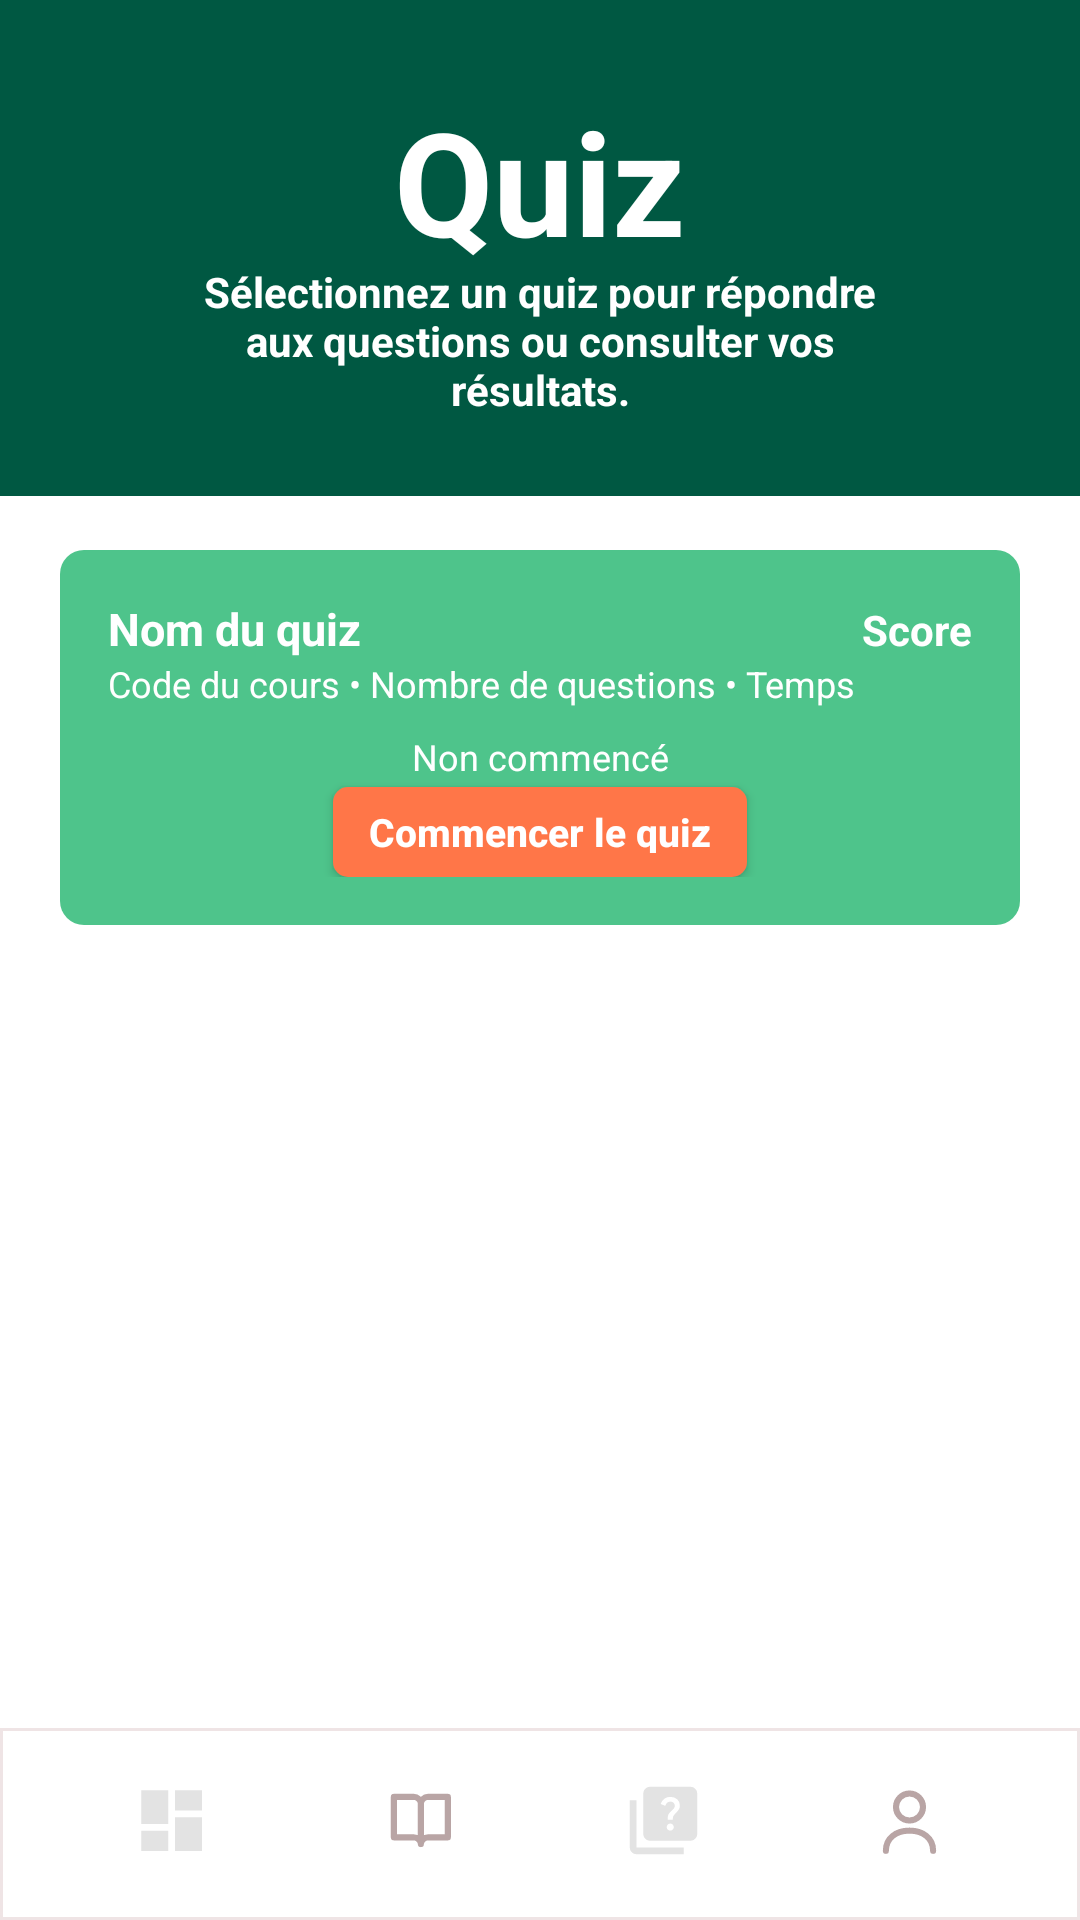

Icon click points for this 1080w x 1920h phone screenshot, format (x=x, y=y):
Compte: (x=909, y=1822)
Cours: (x=421, y=1820)
Quiz: (x=663, y=1820)
Tableau de bord: (x=172, y=1821)
